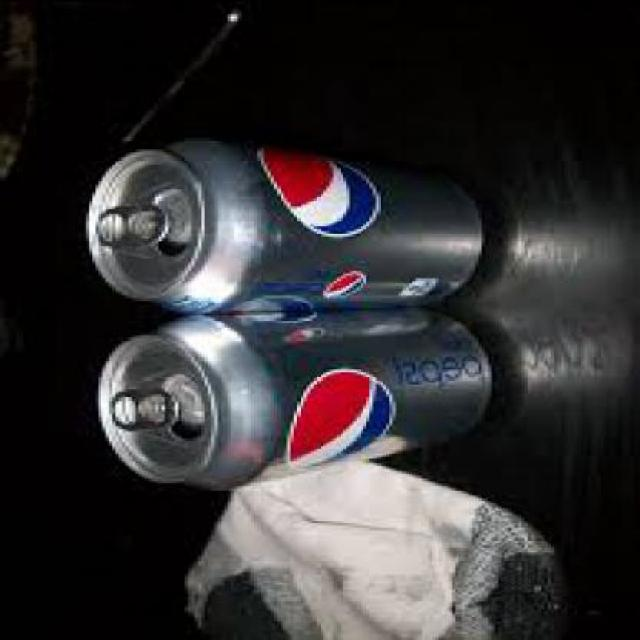METAL: (92, 304, 492, 487), (80, 134, 488, 309), (89, 202, 162, 247), (110, 386, 178, 426)
